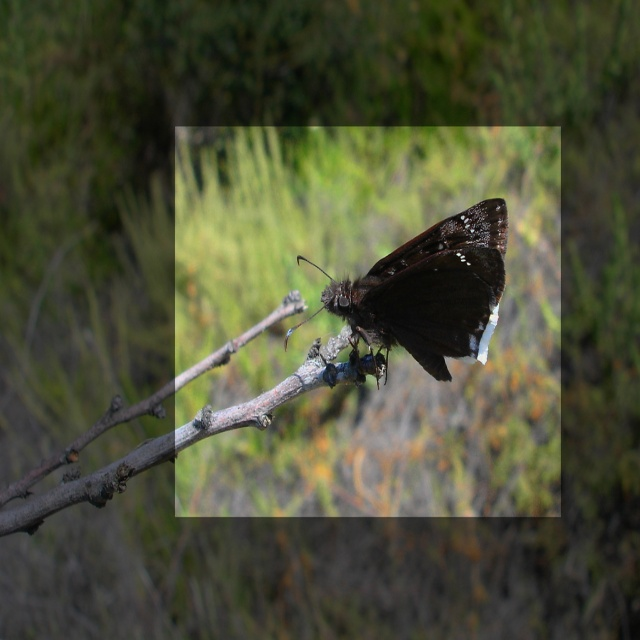Butterfly: (294, 193, 509, 388)
